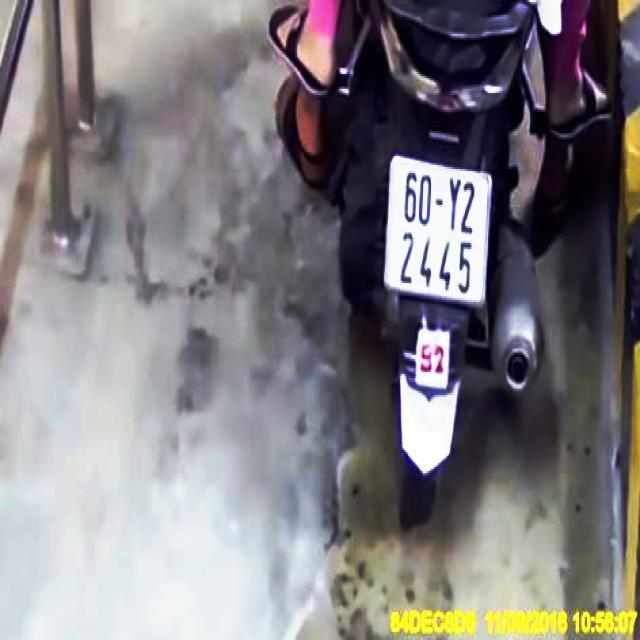license_plate: (384, 160, 493, 305)
